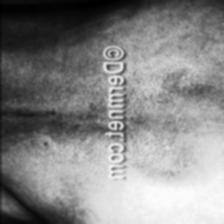Non-Cancerous Skin Condition: (124, 77, 198, 196)
